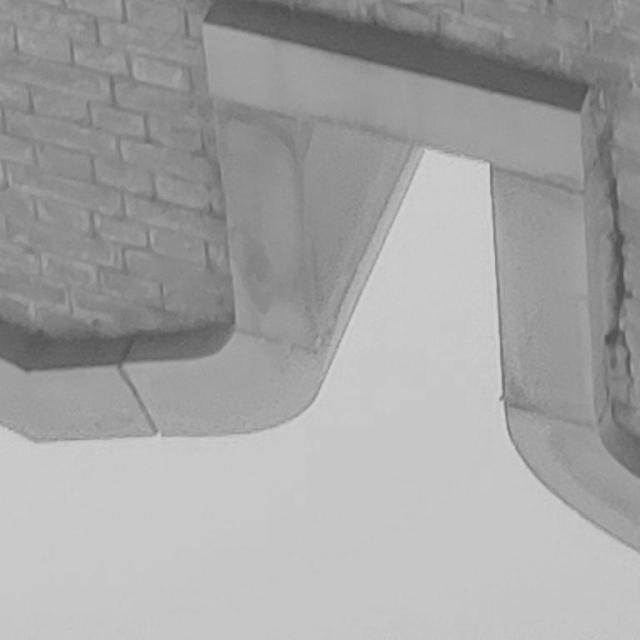crack: (604, 148, 634, 404)
